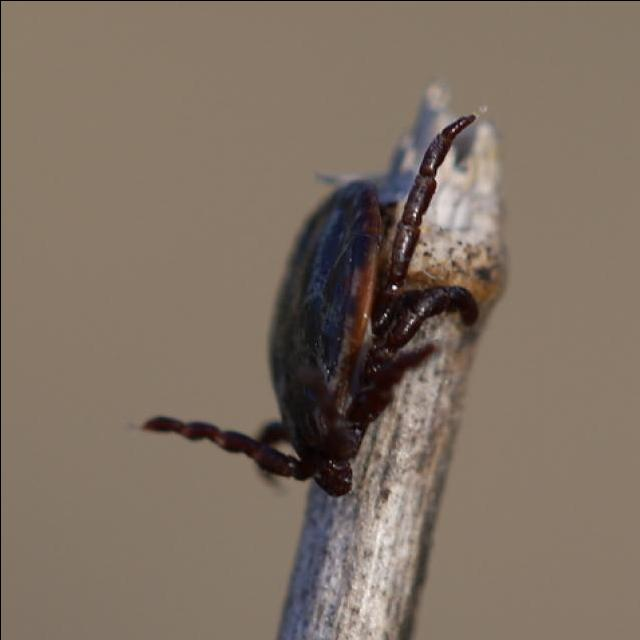Dermacentor Reticulatus-M: (139, 114, 481, 498)
